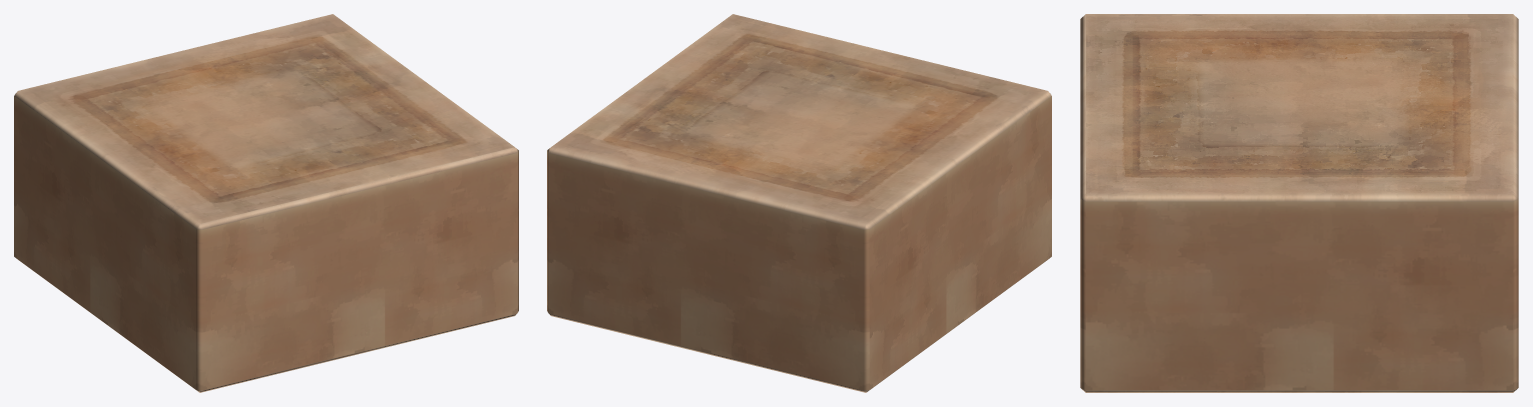
File: block.fbx
The picture shows the model from 3 angles, left to right: view 1: azimuth 30°, elevation 25°; view 2: azimuth 150°, elevation 25°; view 3: azimuth 270°, elevation 25°; orthographic projection. The views are drawn at different scales.
Visible parts, largest first — view 1: pCube2; view 2: pCube2; view 3: pCube2.
Part boxes in pixels (left/top/right/bottom): pCube2: left=14, top=14, right=518, bottom=392; pCube2: left=547, top=14, right=1051, bottom=392; pCube2: left=1080, top=14, right=1518, bottom=392.
Bounding box in the file's own units: 10 × 5 × 10.
